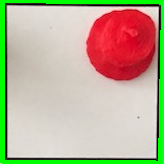Red Queen: (85, 6, 158, 84)
